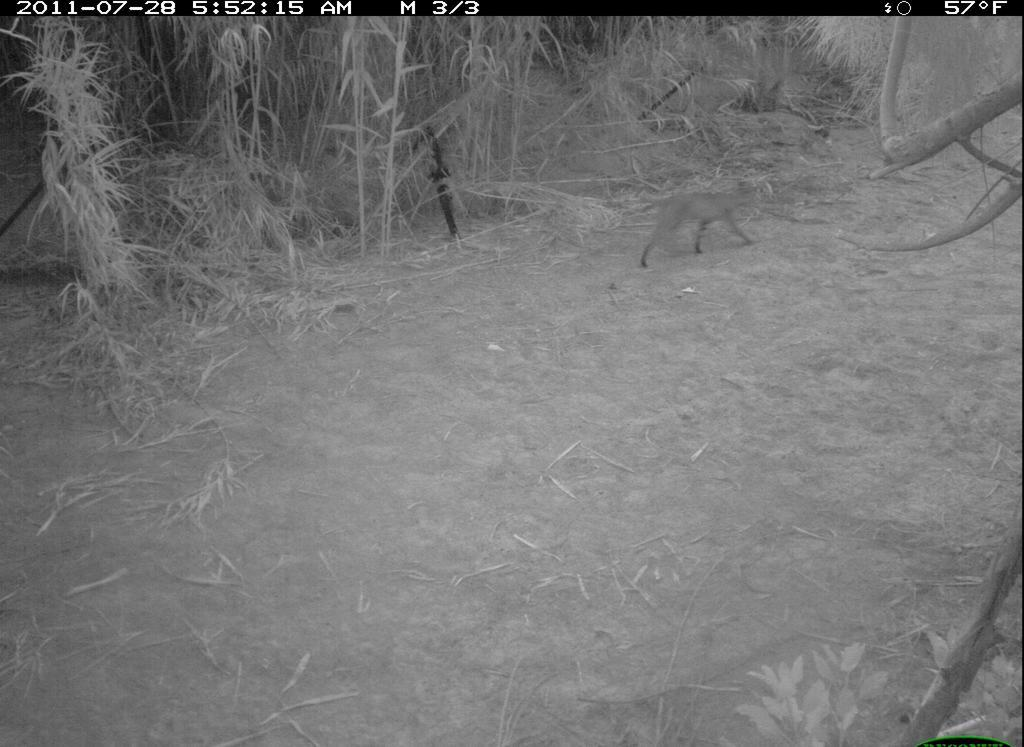bobcat: (634, 176, 772, 268)
